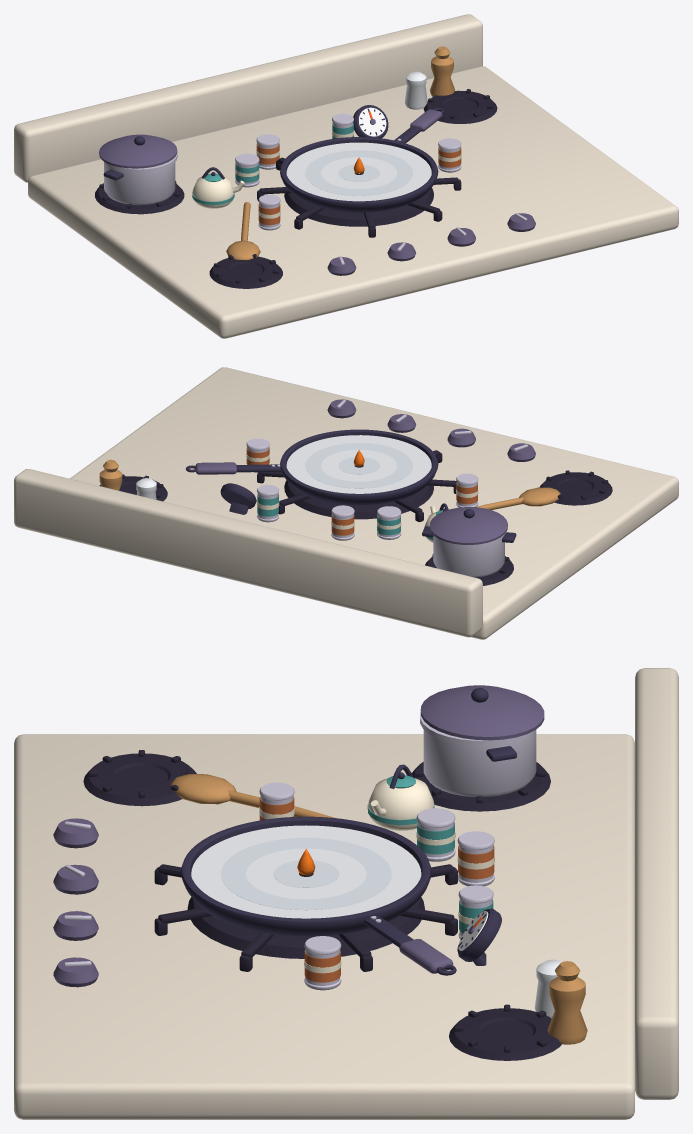
The model's file is potato.glb.
The picture shows the model from 3 angles, top to bottom: view 1: azimuth 30°, elevation 25°; view 2: azimuth 150°, elevation 25°; view 3: azimuth 270°, elevation 25°; orthographic projection. The views are drawn at different scales.
Visible parts, largest first — view 1: stove, back, surface, body, pot, groove_0, lid, burner, cold_burner_2, cold_burner_1, kettle, cold_burner_0 (+10 smaller); view 2: stove, back, surface, body, lid, pot, groove_0, cold_burner_2, burner, tin_0, tin_1, tin_2 (+11 smaller); view 3: stove, back, surface, body, pot, lid, groove_0, cold_burner_1, cold_burner_2, burner, kettle, mill (+17 smaller).
Boxes of the visible parts, x1=… form: stove: x1=28, y1=66, x2=678, y2=338; back: x1=14, y1=14, x2=482, y2=182; surface: x1=286, y1=142, x2=431, y2=201; body: x1=280, y1=137, x2=438, y2=212; pot: x1=103, y1=153, x2=177, y2=205; groove_0: x1=305, y1=150, x2=412, y2=195; lid: x1=99, y1=134, x2=177, y2=168; burner: x1=284, y1=188, x2=433, y2=226; cold_burner_2: x1=209, y1=254, x2=282, y2=288; cold_burner_1: x1=423, y1=89, x2=497, y2=123; kettle: x1=192, y1=167, x2=244, y2=208; cold_burner_0: x1=95, y1=181, x2=184, y2=214; stove: x1=70, y1=367, x2=678, y2=639; back: x1=14, y1=469, x2=482, y2=637; surface: x1=286, y1=435, x2=431, y2=493; body: x1=280, y1=429, x2=438, y2=504; lid: x1=429, y1=507, x2=507, y2=544; pot: x1=433, y1=531, x2=506, y2=577; groove_0: x1=305, y1=443, x2=412, y2=488; cold_burner_2: x1=540, y1=470, x2=612, y2=505; burner: x1=284, y1=480, x2=433, y2=519; tin_0: x1=331, y1=505, x2=354, y2=540; tin_1: x1=257, y1=484, x2=279, y2=522; tin_2: x1=377, y1=506, x2=401, y2=539; stove: x1=14, y1=734, x2=634, y2=1119; back: x1=635, y1=668, x2=678, y2=1099; surface: x1=191, y1=825, x2=421, y2=918; body: x1=181, y1=816, x2=431, y2=936; pot: x1=420, y1=711, x2=536, y2=796; lid: x1=420, y1=685, x2=544, y2=740; groove_0: x1=221, y1=837, x2=391, y2=910; cold_burner_1: x1=449, y1=1004, x2=561, y2=1060; cold_burner_2: x1=83, y1=750, x2=196, y2=806; burner: x1=187, y1=897, x2=424, y2=958; kettle: x1=367, y1=764, x2=434, y2=830; mill: x1=547, y1=961, x2=587, y2=1044.
Bounding box in the file's own units: 46 × 7.8 × 36.4.
